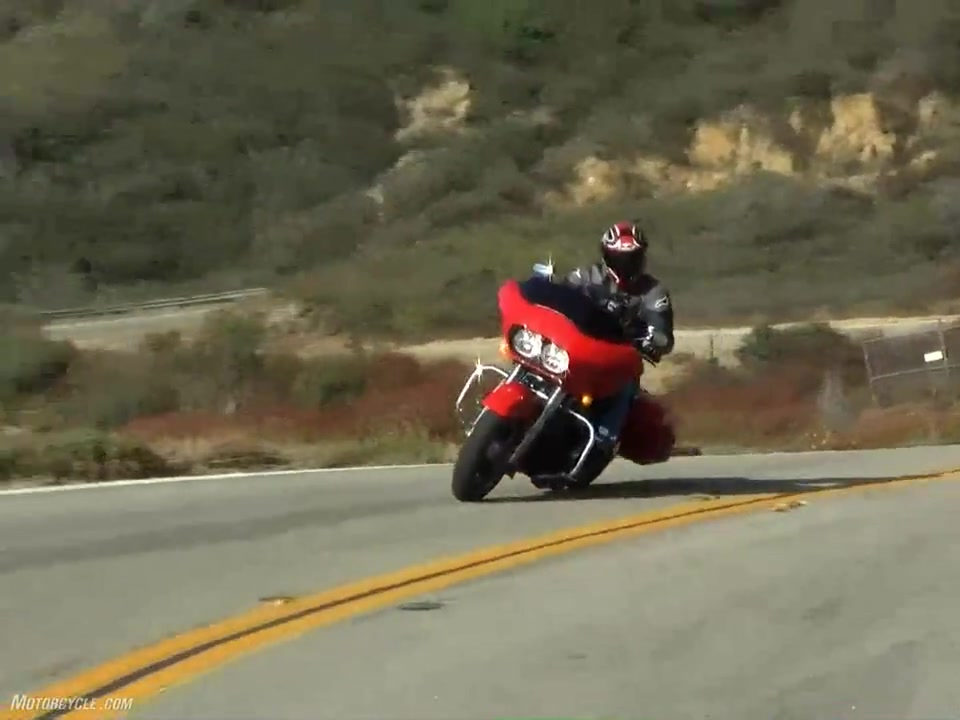motorbike: (450, 258, 678, 506)
